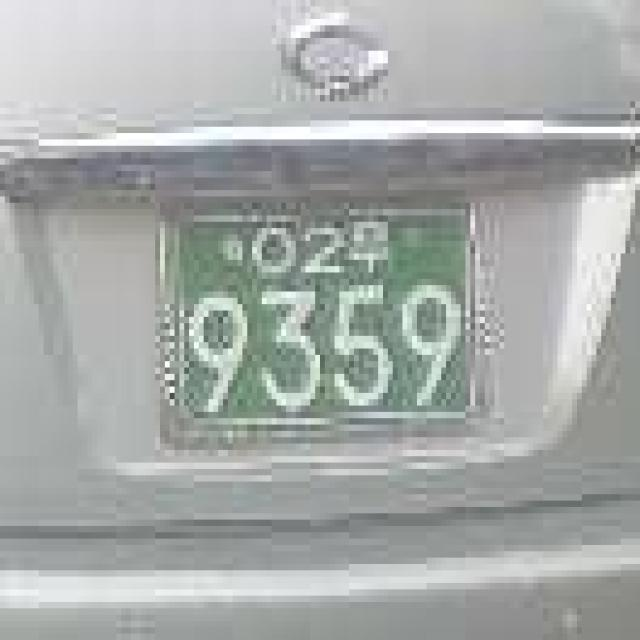illegal_plate: (146, 186, 492, 455)
